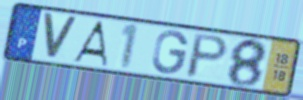1: (118, 22, 141, 71)
8: (227, 36, 270, 89)
A: (69, 20, 110, 69)
G: (150, 29, 191, 76)
P: (183, 32, 231, 80)
V: (41, 11, 80, 62)
